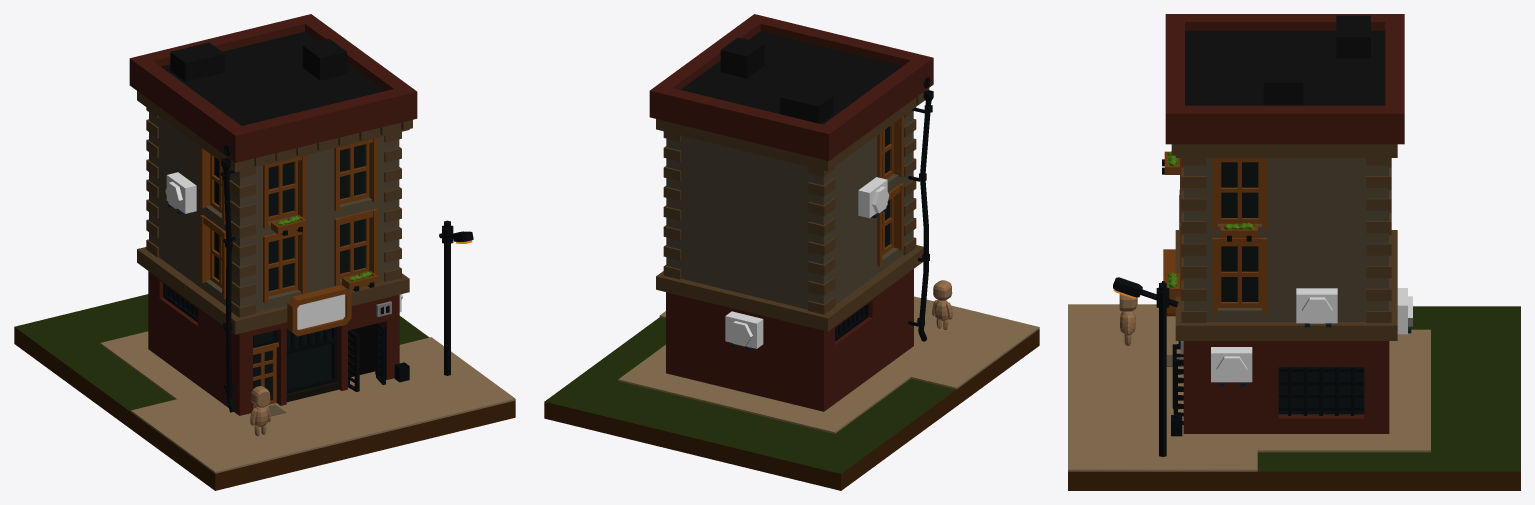
File: SF_Modern Building 11.fbx
The picture shows the model from 3 angles, left to right: view 1: azimuth 30°, elevation 25°; view 2: azimuth 150°, elevation 25°; view 3: azimuth 270°, elevation 25°; orthographic projection. The views are drawn at different scales.
Parts seen in each view (by area): view 1: Box16732, Box17369, Box17368, Box16728, Box16729, Box16710, Box16725, Box16727, Box16741, Plane1454, Box16731, Cylinder1821 (+11 smaller); view 2: Box17368, Box16732, Box16710, Box16728, Box16729, Box17369, Box16725, Box16731, Box16743, Cylinder1821, Box16742, Box16763 (+4 smaller); view 3: Box16732, Box17368, Box17369, Box16729, Box16728, Box16710, Box16725, Box16731, Box16740, Box16742, Plane1455, Box16716 (+6 smaller).
Part boxes in pixels (<box>): Box16732: <box>129,14,417,162</box>; Box17369: <box>100,331,515,473</box>; Box17368: <box>14,294,515,490</box>; Box16728: <box>149,175,399,312</box>; Box16729: <box>149,112,399,241</box>; Box16710: <box>148,271,399,415</box>; Box16725: <box>137,247,409,334</box>; Box16727: <box>287,285,351,336</box>; Box16741: <box>229,167,255,317</box>; Plane1454: <box>286,328,331,388</box>; Box16731: <box>137,91,409,172</box>; Cylinder1821: <box>220,144,235,412</box>; Box17368: <box>544,317,1039,490</box>; Box16732: <box>649,14,933,160</box>; Box16710: <box>666,269,913,411</box>; Box16728: <box>666,174,913,309</box>; Box16729: <box>666,112,913,239</box>; Box17369: <box>618,296,1039,433</box>; Box16725: <box>656,245,923,331</box>; Box16731: <box>656,98,924,171</box>; Box16743: <box>808,166,835,314</box>; Cylinder1821: <box>908,77,933,341</box>; Box16742: <box>663,131,681,279</box>; Box16763: <box>780,86,833,123</box>; Box16732: <box>1165,14,1404,144</box>; Box17368: <box>1068,306,1520,490</box>; Box17369: <box>1068,304,1430,471</box>; Box16729: <box>1180,158,1388,237</box>; Box16728: <box>1180,215,1388,321</box>; Box16710: <box>1183,341,1389,433</box>; Box16725: <box>1175,230,1397,340</box>; Box16731: <box>1175,144,1397,157</box>; Box16740: <box>1181,158,1206,322</box>; Box16742: <box>1366,158,1391,322</box>; Plane1455: <box>1278,367,1364,414</box>; Box16716: <box>1278,367,1364,415</box>.
Size of the model in its own units: 1100 by 1128 by 1274.
